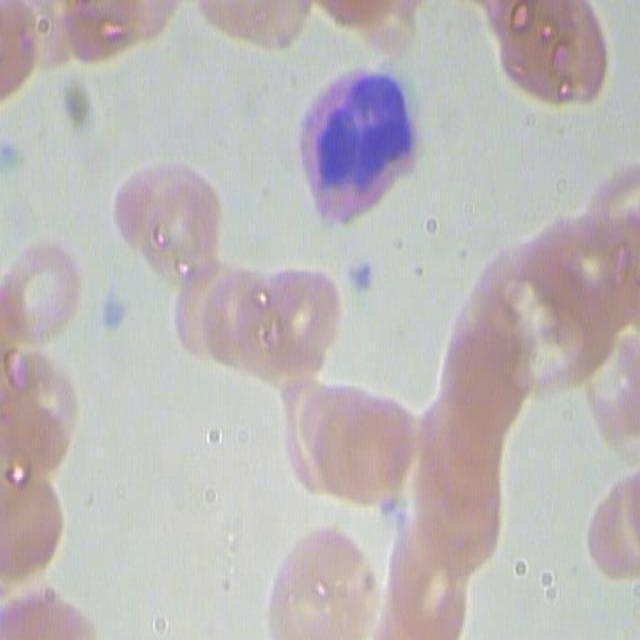Platelets: (97, 293, 127, 332), (347, 259, 377, 297)
RBC: (249, 513, 387, 640), (111, 161, 230, 287), (497, 2, 616, 122), (253, 252, 345, 380), (0, 221, 87, 347), (384, 514, 471, 640), (434, 316, 529, 431), (0, 348, 95, 463), (334, 384, 418, 497), (0, 468, 78, 583), (196, 268, 275, 368)
WBC: (287, 65, 429, 236)
